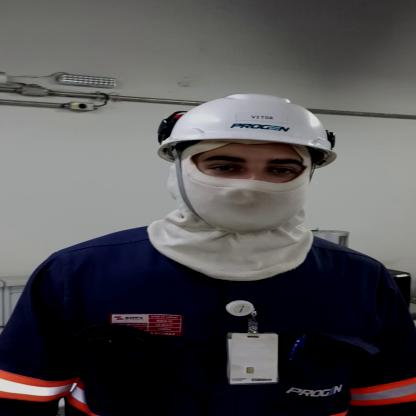Balaclava: (144, 145, 328, 282)
Capacete: (152, 91, 346, 164)
